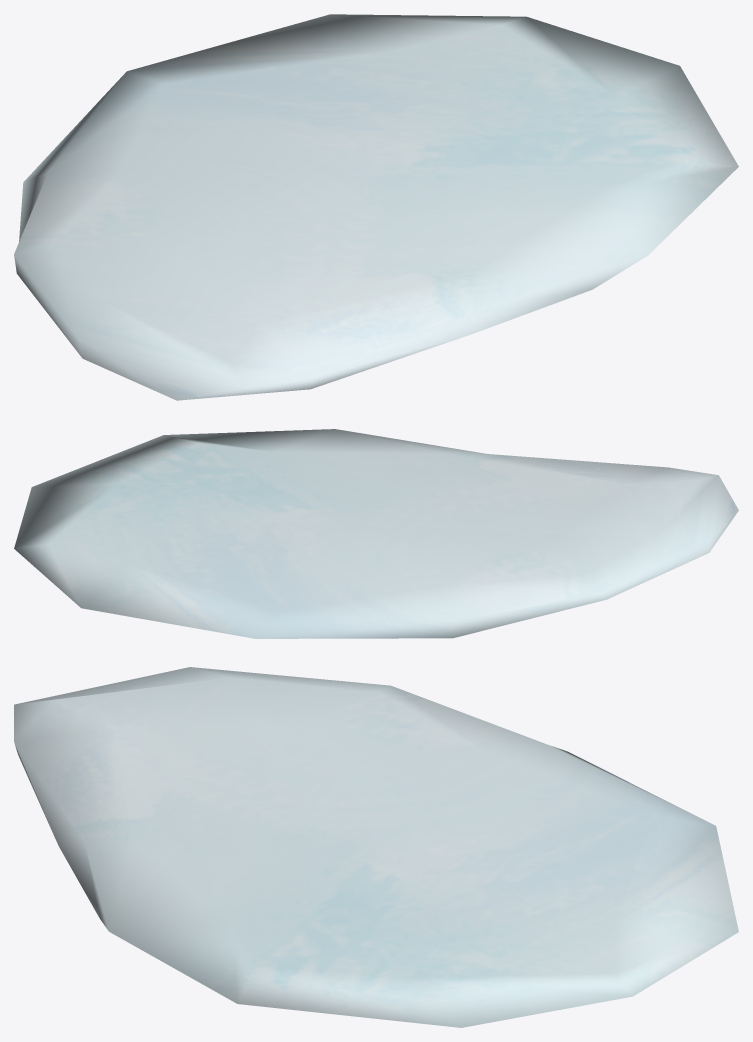
The model's file is SnowMound_01.fbx.
3 views of the same model, one above another, from view 1: azimuth 30°, elevation 25°; view 2: azimuth 150°, elevation 25°; view 3: azimuth 270°, elevation 25° (orthographic). The views are drawn at different scales.
Visible parts, largest first — view 1: SnowMound; view 2: SnowMound; view 3: SnowMound.
Boxes of the visible parts, x1,y1,x2,y2 form: SnowMound: (14, 14, 738, 400); SnowMound: (14, 429, 738, 638); SnowMound: (14, 667, 738, 1027).
Size of the model in its own units: 833 by 45.12 by 726.
